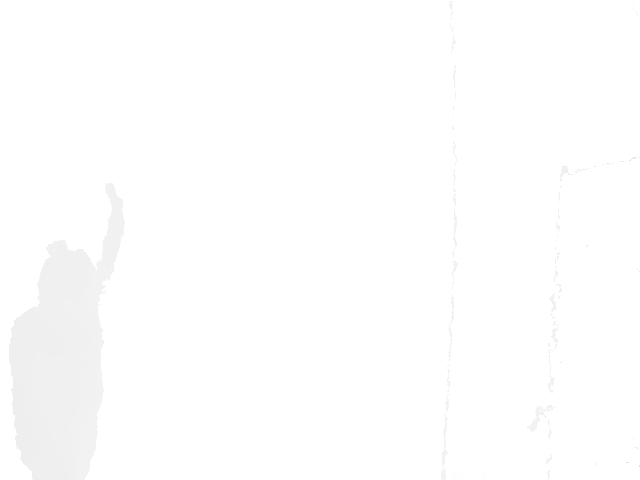hand: (103, 181, 124, 212)
head: (35, 238, 106, 311)
person: (7, 181, 126, 480)
